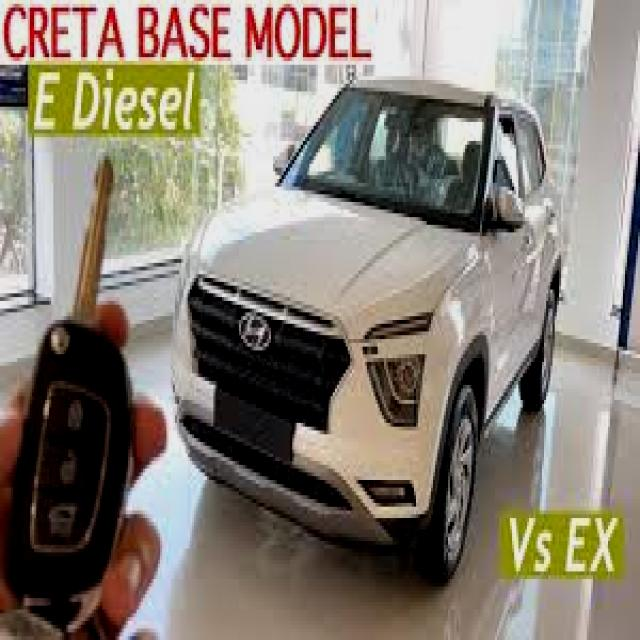SUV: (177, 67, 565, 574)
